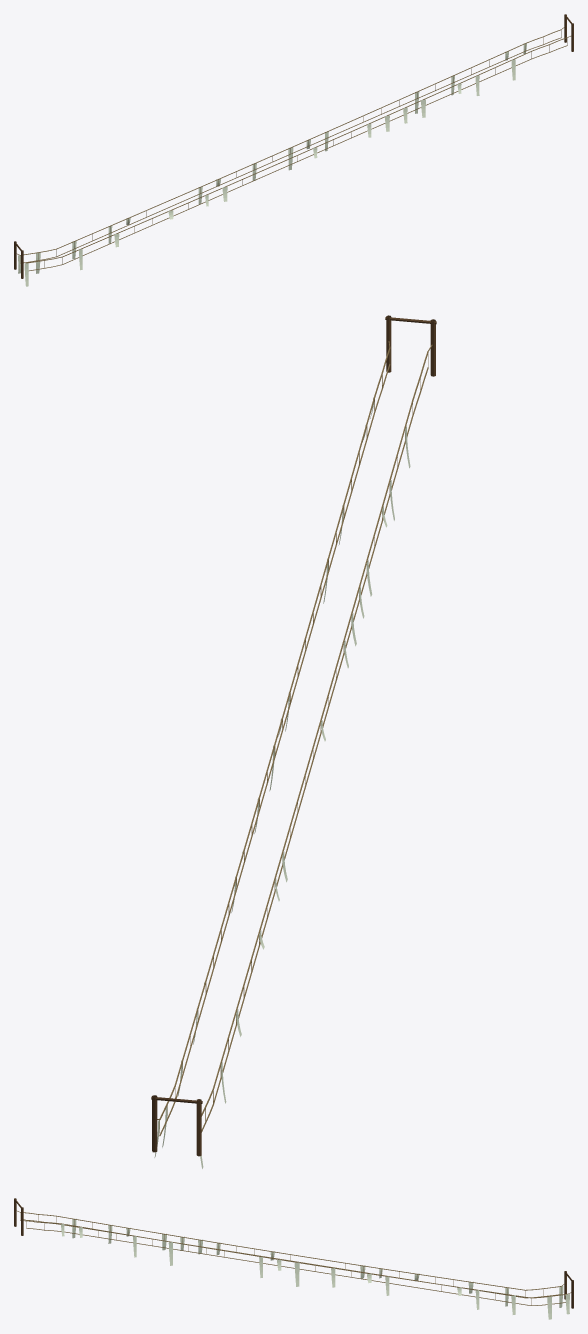
File: SM_Bridge_13_14_Rails.fbx
3 renders of one model, top to bottom at view 1: azimuth 90°, elevation 25°; view 2: azimuth 150°, elevation 25°; view 3: azimuth 270°, elevation 25°, orthographic. The views are drawn at different scales.
Parts seen in each view (by area): view 1: SM_Bridge_13_14_Rails; view 2: SM_Bridge_13_14_Rails; view 3: SM_Bridge_13_14_Rails.
Part boxes in pixels (x1,y1,x2,y2): SM_Bridge_13_14_Rails: (14, 14, 573, 286); SM_Bridge_13_14_Rails: (151, 315, 436, 1168); SM_Bridge_13_14_Rails: (14, 1198, 573, 1319).
Bounding box in the file's own units: 25.57 × 25.25 × 68.93.
